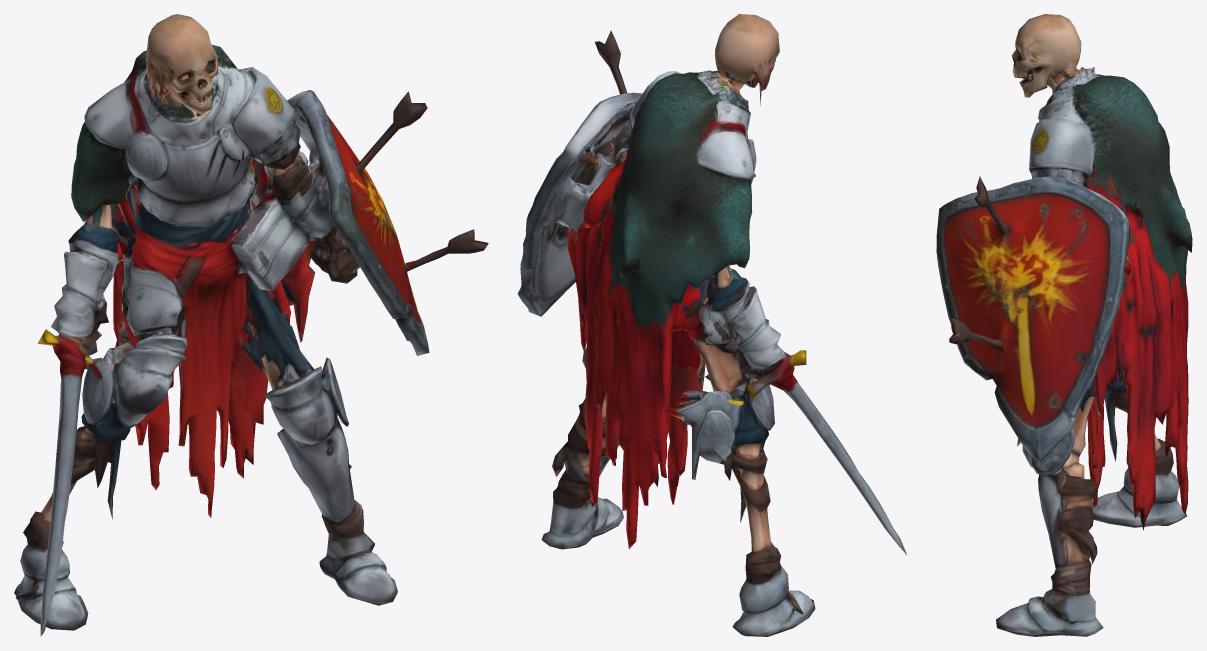
The model's file is Skeletal Guard (small).glb.
3 renders of one model, left to right at view 1: azimuth 30°, elevation 25°; view 2: azimuth 150°, elevation 25°; view 3: azimuth 270°, elevation 25°, orthographic. The views are drawn at different scales.
Visible parts, largest first — view 1: Mesh1.0; view 2: Mesh1.0; view 3: Mesh1.0.
Part boxes in pixels (left/top/right/bottom): Mesh1.0: left=14, top=14, right=488, bottom=636; Mesh1.0: left=517, top=14, right=906, bottom=636; Mesh1.0: left=936, top=14, right=1192, bottom=636.
Bounding box in the file's own units: 1.36 × 1.91 × 0.8327.
Materials: 1 (1 with a texture image).
